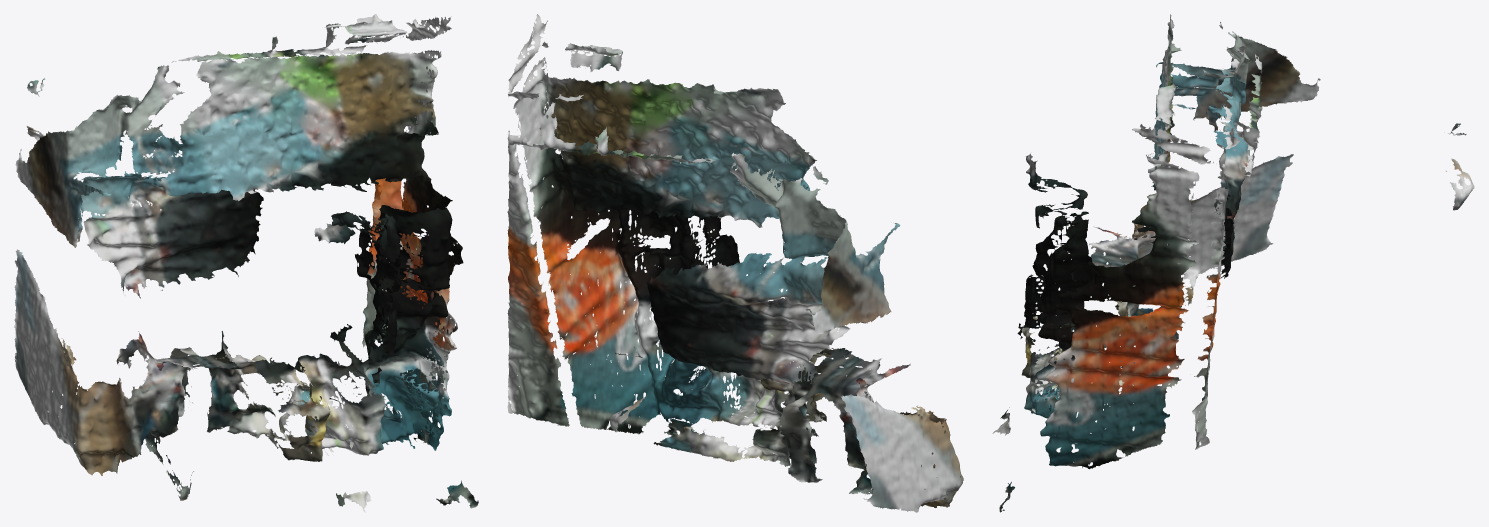
The model's file is final_color_model_20251226_165941.obj.
3 views of the same model, side by side, from view 1: azimuth 30°, elevation 25°; view 2: azimuth 150°, elevation 25°; view 3: azimuth 270°, elevation 25° (orthographic). The views are drawn at different scales.
Size of the model in its own units: 2.33 by 2.49 by 2.64.
